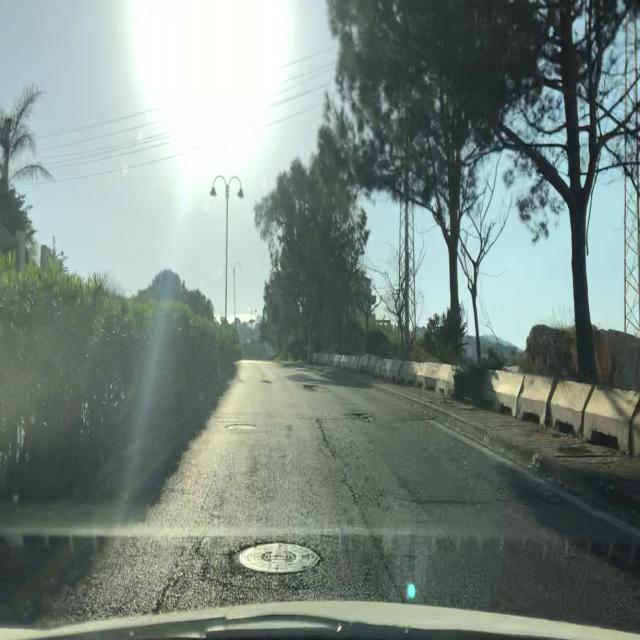Pothole: (349, 410, 376, 424), (305, 383, 326, 393)
